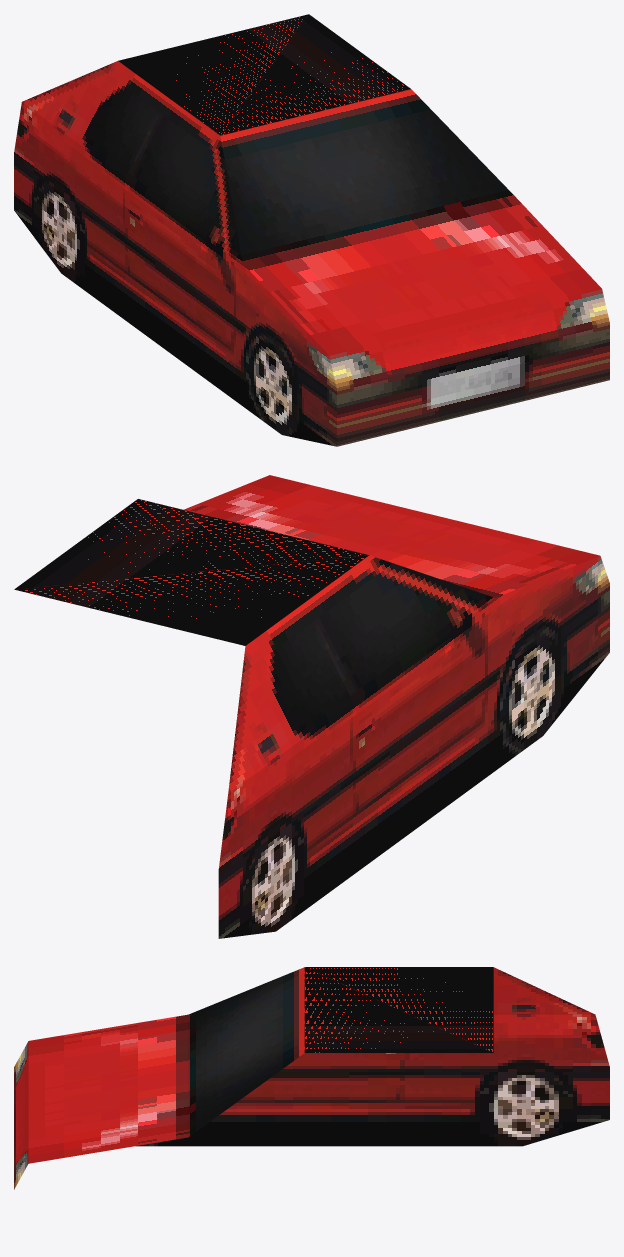
Rendered from stage-palm-p6-686.glb.
3 views of the same model, one above another, from view 1: azimuth 30°, elevation 25°; view 2: azimuth 150°, elevation 25°; view 3: azimuth 270°, elevation 25° (orthographic). The views are drawn at different scales.
Size of the model in its own units: 2 by 1.5 by 4.1.
1 material, 1 textured.
